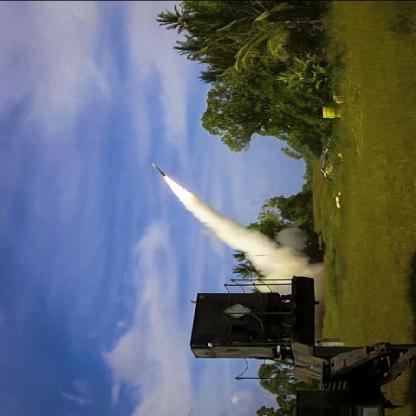MIL_TBM: (151, 162, 166, 177)
